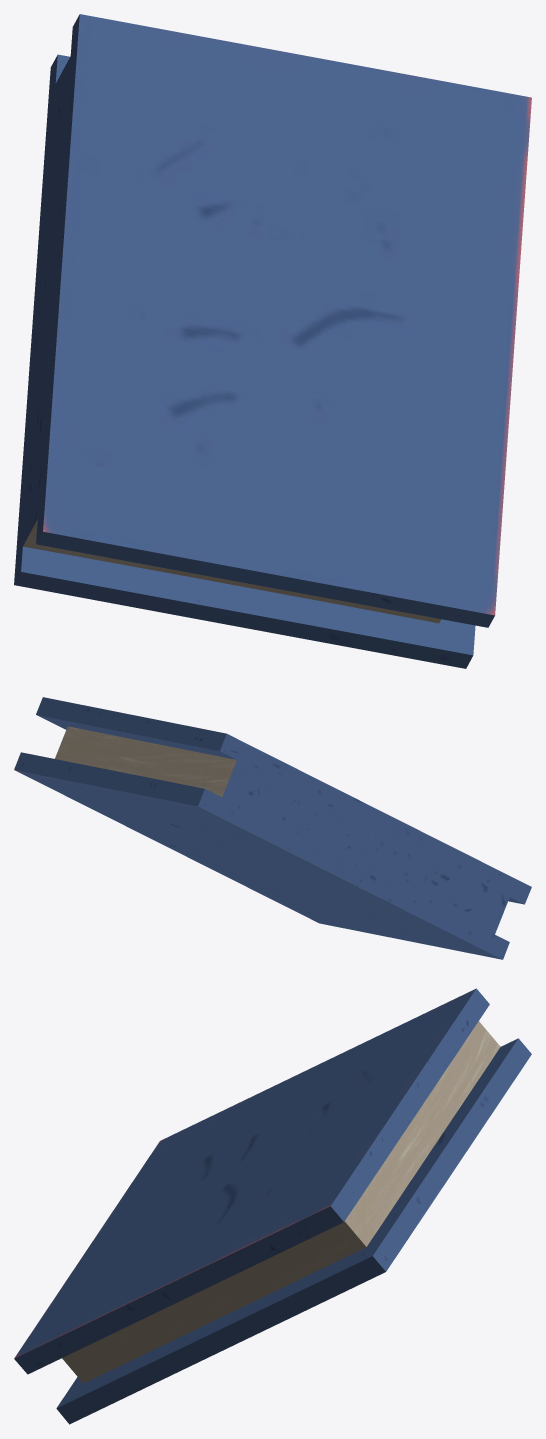
The model's file is blue book.fbx.
3 views of the same model, one above another, from view 1: azimuth 30°, elevation 25°; view 2: azimuth 150°, elevation 25°; view 3: azimuth 270°, elevation 25° (orthographic). The views are drawn at different scales.
Visible parts, largest first — view 1: polySurface8; view 2: polySurface8; view 3: polySurface8.
Boxes of the visible parts, bbox=[...] form: polySurface8: bbox=[14, 14, 531, 668]; polySurface8: bbox=[14, 697, 531, 959]; polySurface8: bbox=[14, 988, 531, 1424].
Size of the model in its own units: 9.16 by 7.17 by 8.68.
